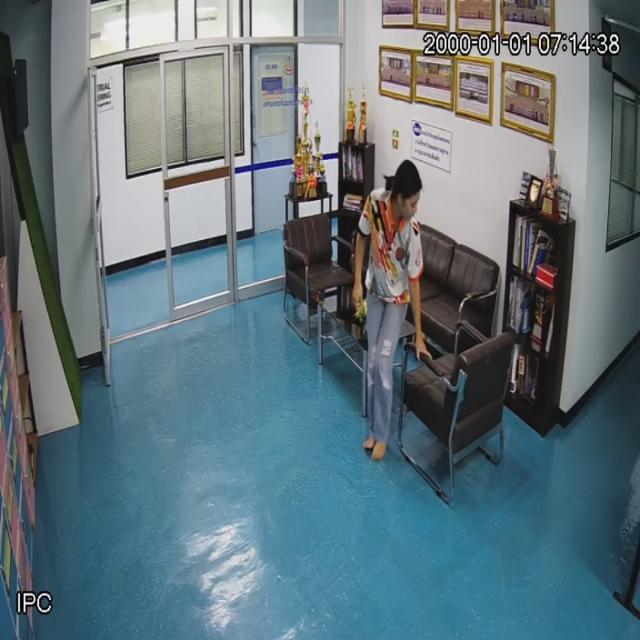normal: (355, 160, 423, 458)
